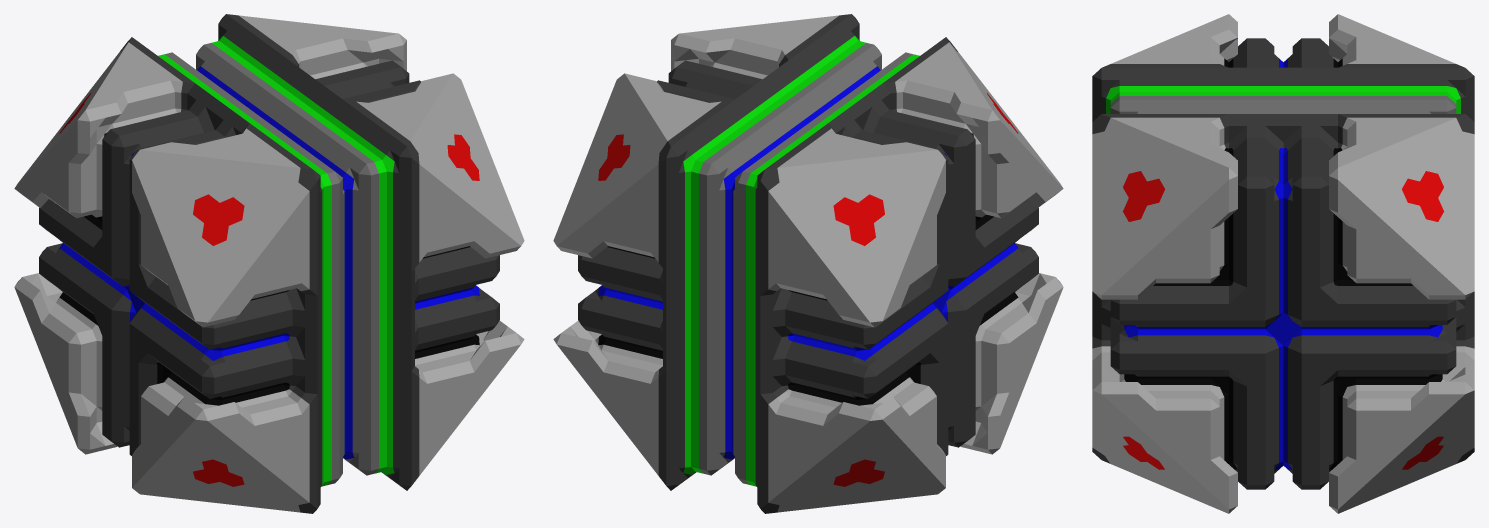
Rendered from obj_auron_bophose_drone.fbx.
3 views of the same model, side by side, from view 1: azimuth 30°, elevation 25°; view 2: azimuth 150°, elevation 25°; view 3: azimuth 270°, elevation 25° (orthographic).
Parts seen in each view (by area): view 1: obj_auron_bophose_drone; view 2: obj_auron_bophose_drone; view 3: obj_auron_bophose_drone.
Part boxes in pixels (x1=…): obj_auron_bophose_drone: x1=14, y1=14, x2=524, y2=513; obj_auron_bophose_drone: x1=553, y1=14, x2=1063, y2=513; obj_auron_bophose_drone: x1=1092, y1=14, x2=1474, y2=513.
Size of the model in its own units: 2100 by 2100 by 2100.
